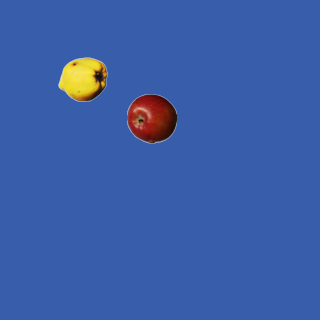Apple Braeburn: (126, 93, 176, 143)
Quince: (57, 54, 107, 104)
